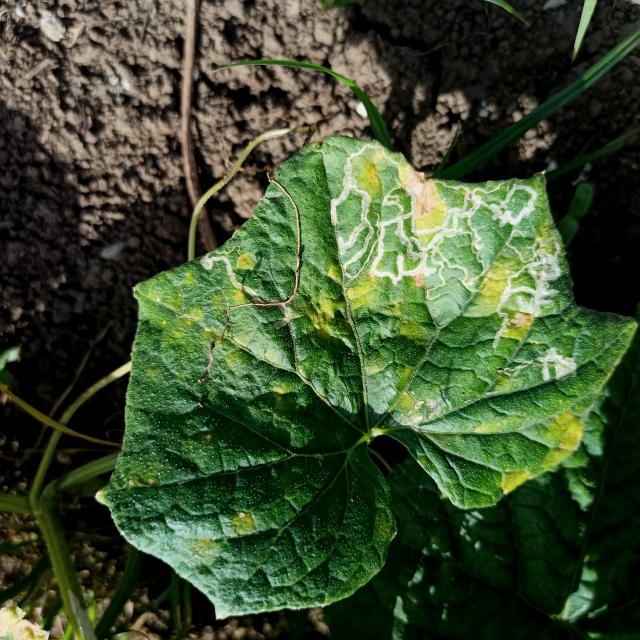disease_cucumber: (310, 154, 578, 408), (162, 251, 310, 395), (472, 406, 587, 500), (188, 501, 261, 561)
